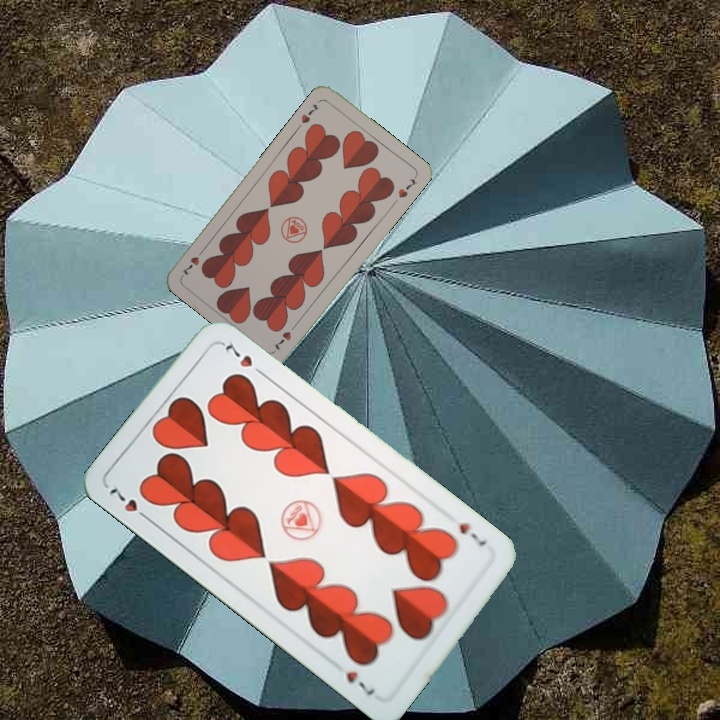H7: (104, 484, 154, 525), (455, 518, 491, 550), (269, 319, 300, 353), (297, 100, 322, 126)
